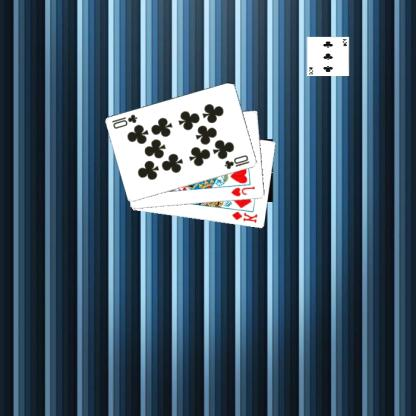10C: (223, 152, 252, 171), (111, 112, 140, 130)
JH: (231, 184, 258, 198)
KD: (231, 209, 260, 224)
